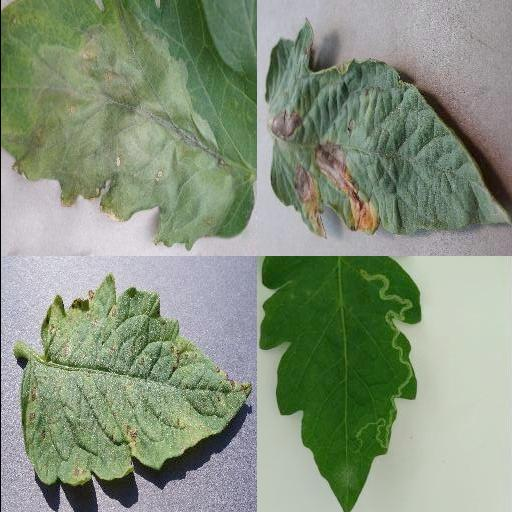Early Blight: (264, 21, 512, 239)
Late Blight: (0, 0, 256, 252)
Leaf Miner: (259, 256, 424, 512)
Septoria: (19, 276, 253, 486)
